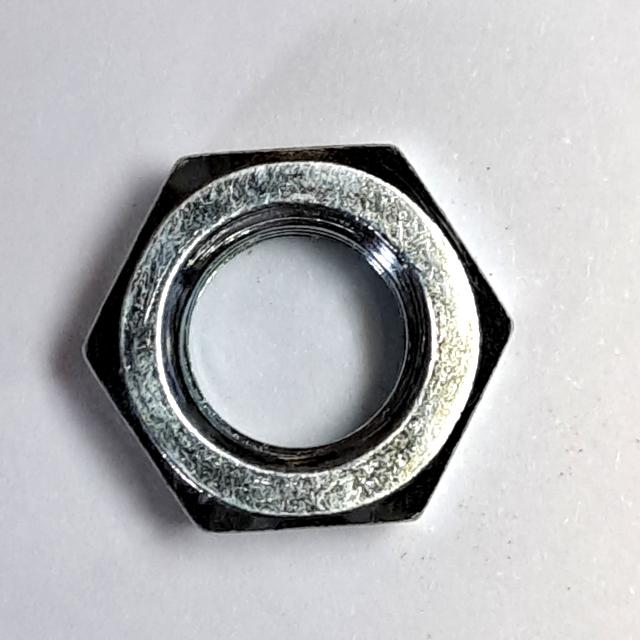Excellent: (68, 128, 530, 547)
